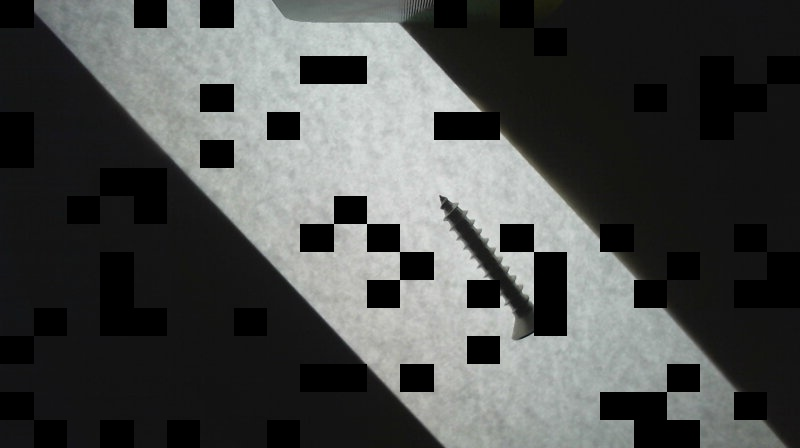S001: (432, 189, 557, 347)
